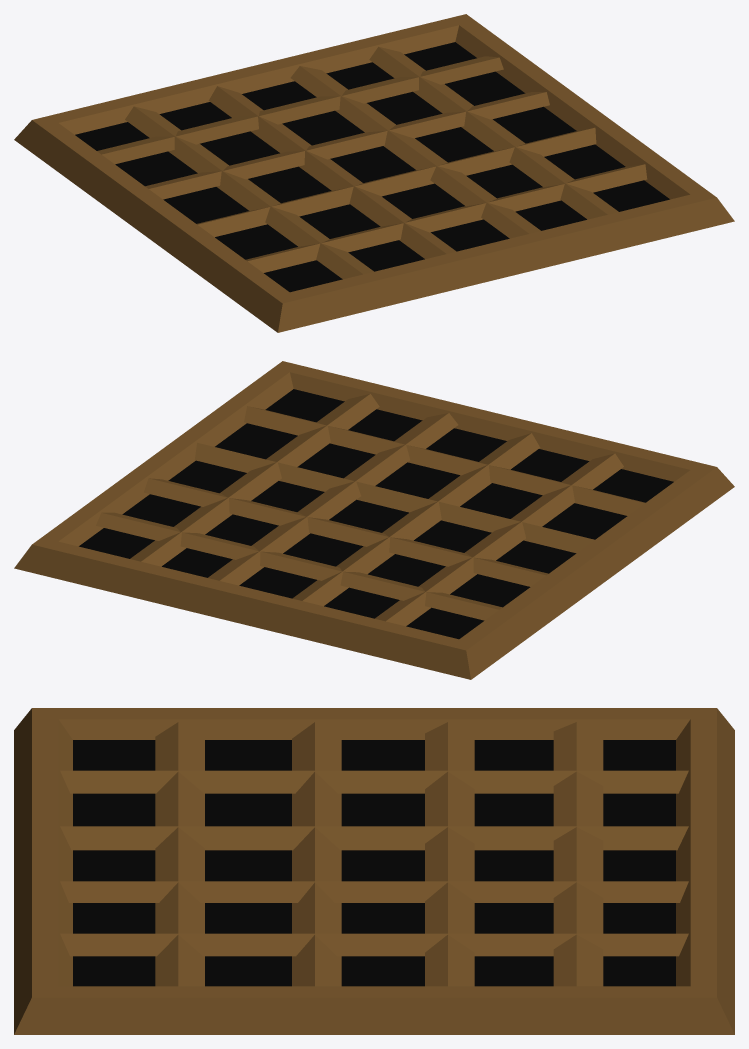
The model's file is Grill_2.fbx.
The picture shows the model from 3 angles, top to bottom: view 1: azimuth 30°, elevation 25°; view 2: azimuth 150°, elevation 25°; view 3: azimuth 270°, elevation 25°; orthographic projection. The views are drawn at different scales.
Visible parts, largest first — view 1: 1_Grill_2; view 2: 1_Grill_2; view 3: 1_Grill_2.
Part boxes in pixels (box(x1,y1,x2,y2)): 1_Grill_2: box(14, 14, 734, 332); 1_Grill_2: box(14, 361, 734, 679); 1_Grill_2: box(14, 708, 734, 1034).
Size of the model in its own units: 1.5 by 0.0685 by 1.5.
